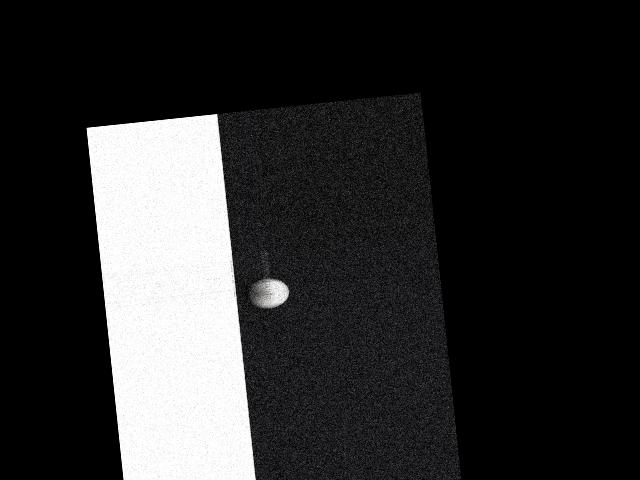egg: (246, 276, 290, 310)
